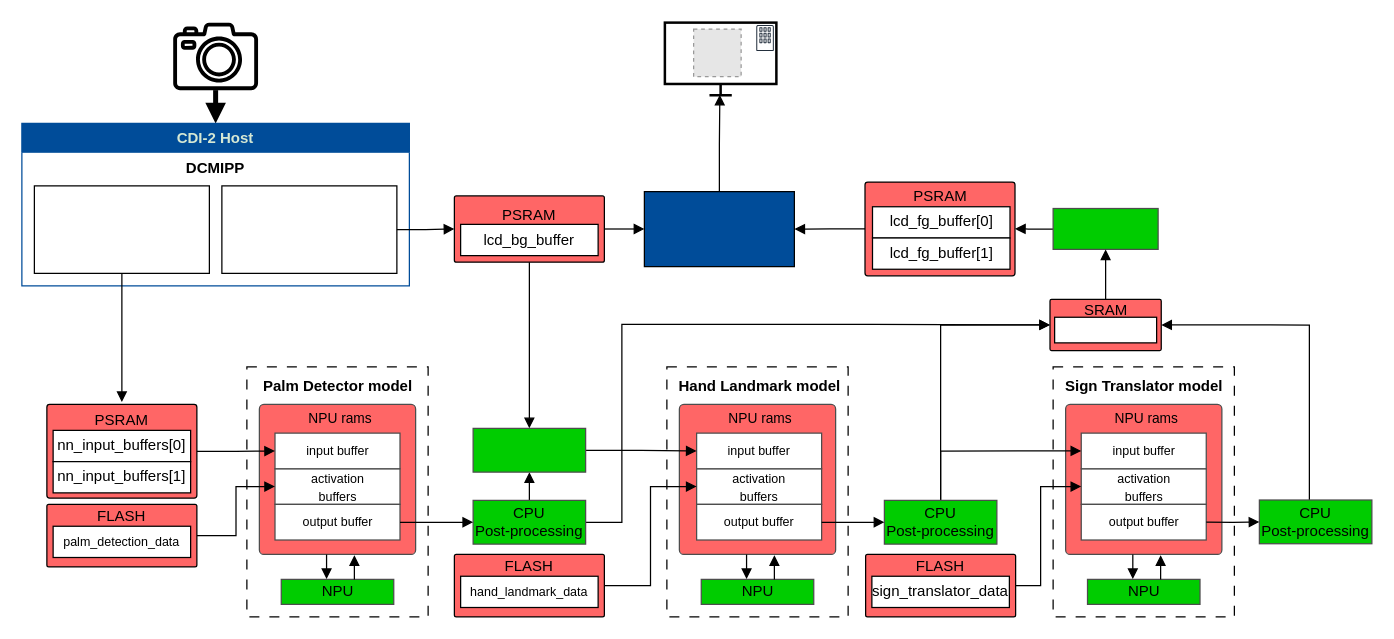
Image size: 1394x639. Some labels were removed from this diagram. Grey dashed boxes stand in for pictures. Here are the shapes that lost their labels. From the top down, the box of each, then its label:
(33, 185, 209, 273): Inference pipe - Continuous - 2592x1940 => 192x192 - 30 fps
(221, 185, 397, 273): Main pipe - Continuous - 2592x1940 => 800x480 - 30 fps
(643, 190, 794, 267): LTDC
(1052, 207, 1158, 249): CPU UI
(1053, 316, 1157, 343): disp
(472, 427, 586, 472): CPU resize
